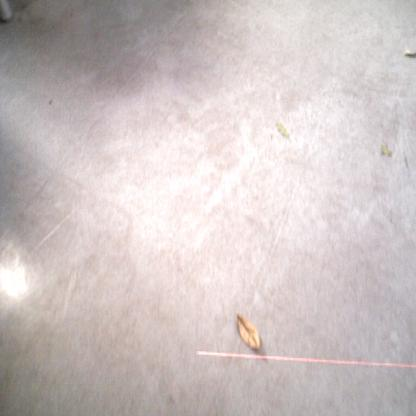dirty: (235, 311, 261, 352), (275, 120, 291, 138), (380, 142, 394, 157), (403, 48, 416, 59)
mark: (402, 154, 409, 172), (47, 97, 53, 107), (269, 132, 274, 141), (388, 216, 393, 224), (70, 11, 74, 18)
